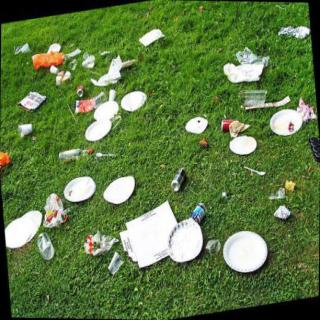METAL: (190, 199, 210, 223), (171, 164, 186, 194), (220, 117, 241, 136), (76, 84, 86, 101), (88, 143, 94, 155)
